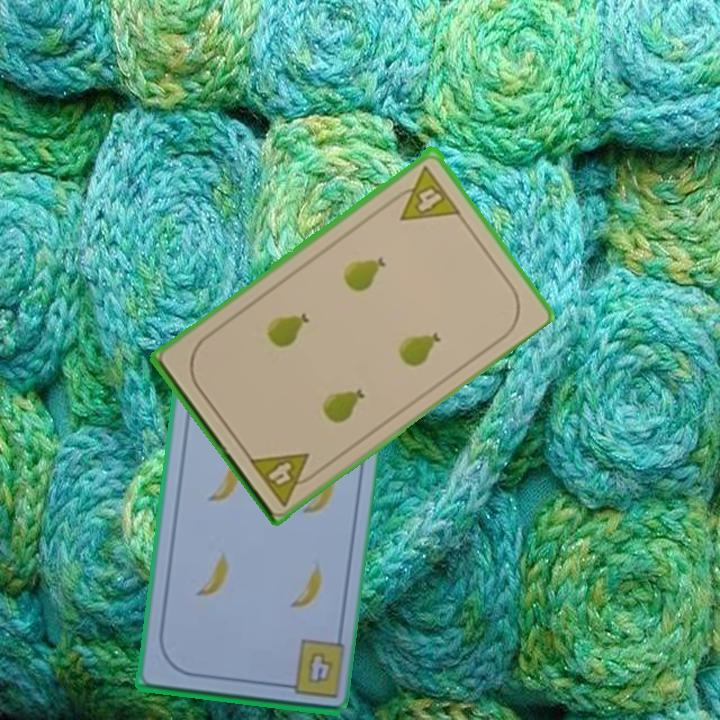4b: (303, 647, 335, 687)
4p: (386, 160, 462, 224), (245, 448, 324, 509)
